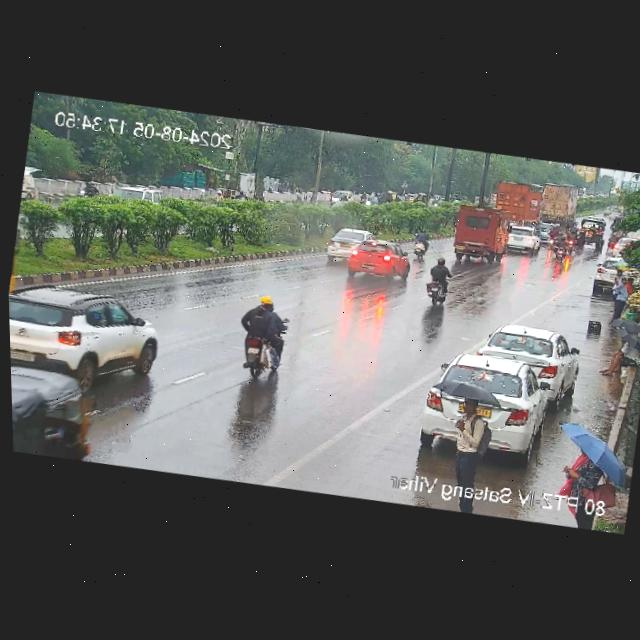car: (8, 276, 171, 390), (413, 344, 555, 461), (11, 360, 105, 463), (478, 319, 580, 395), (344, 235, 415, 287), (25, 171, 102, 212), (589, 250, 640, 300), (320, 223, 377, 265), (99, 180, 162, 207), (501, 225, 542, 258), (324, 187, 356, 212), (532, 220, 553, 242), (606, 203, 626, 222)
motorcycle: (229, 293, 303, 386), (420, 256, 457, 307), (405, 228, 435, 263), (552, 235, 569, 261), (547, 222, 560, 252), (565, 228, 579, 254), (213, 189, 225, 206), (359, 192, 369, 205)
person: (422, 378, 506, 482), (544, 416, 637, 502), (596, 318, 640, 381), (604, 274, 636, 322)
truck: (448, 200, 510, 267), (534, 180, 583, 228), (493, 176, 543, 222)
